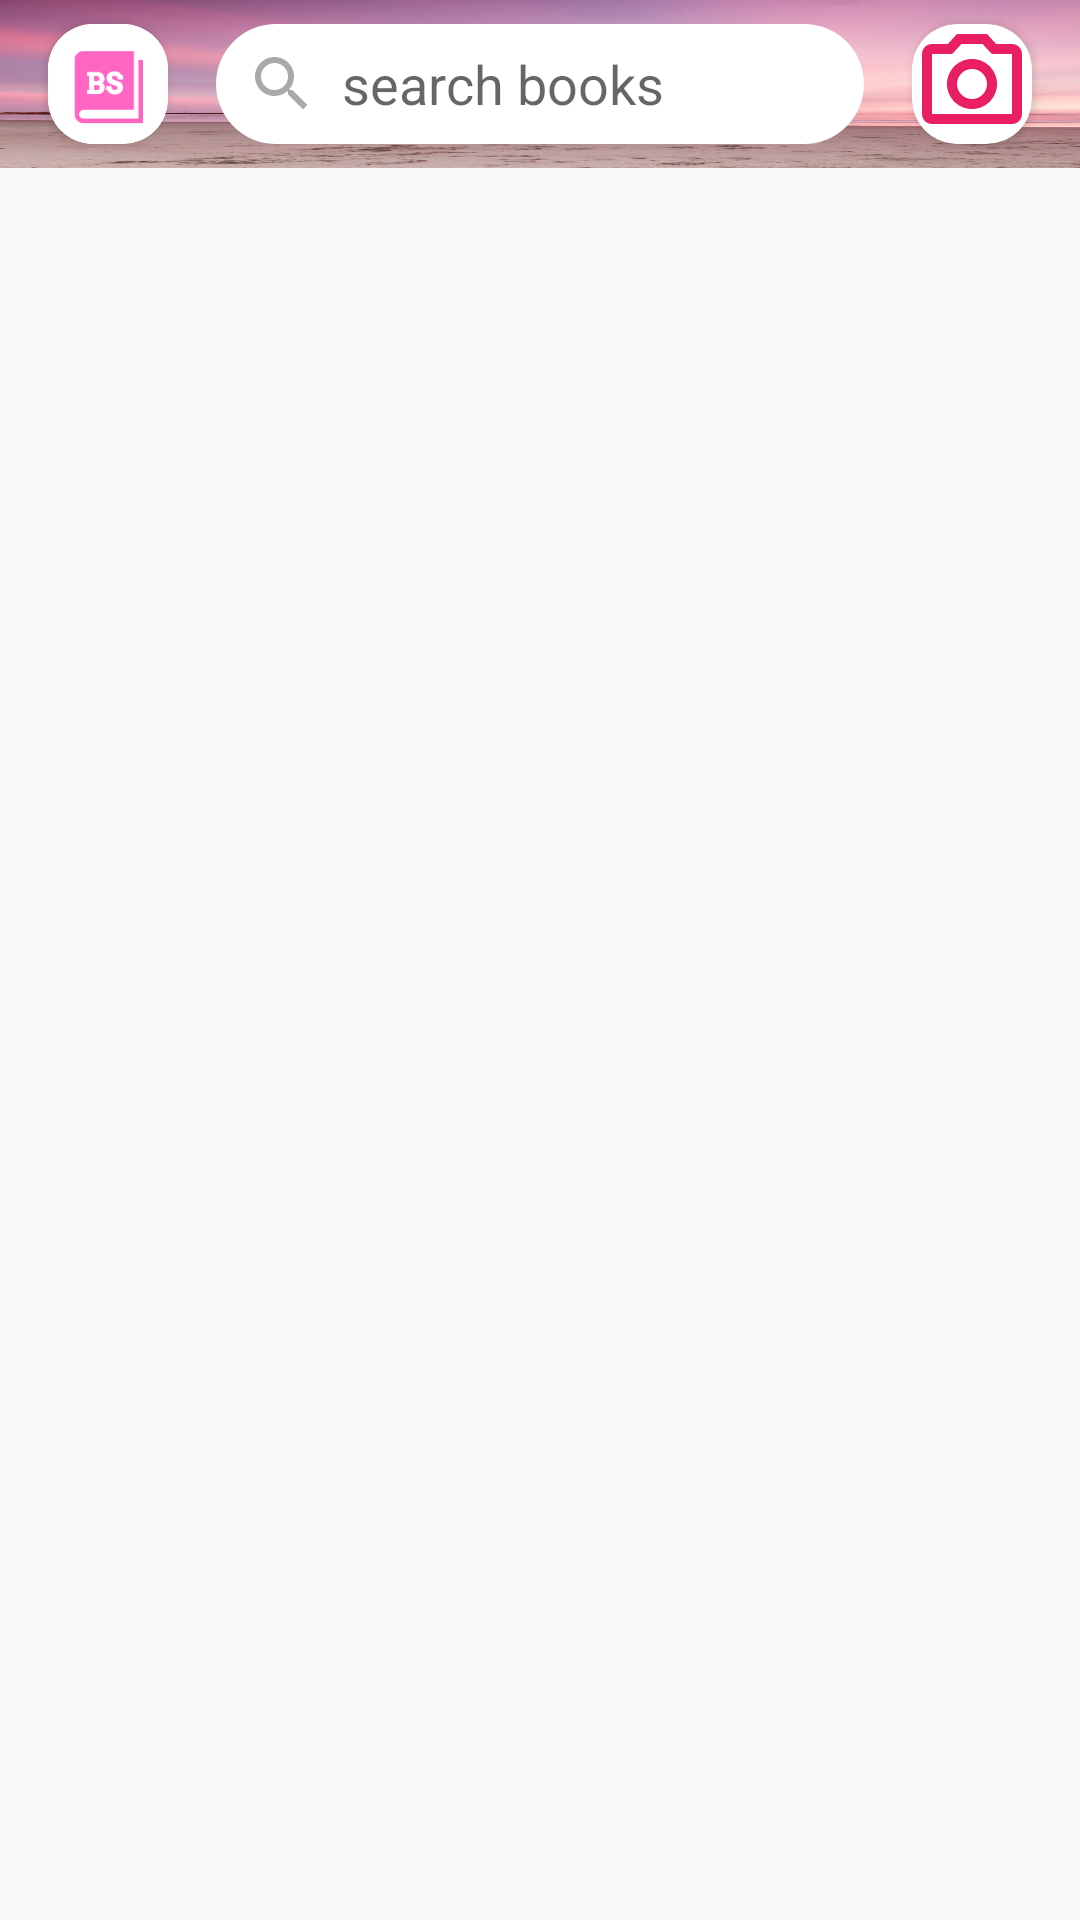

Screen size 1080*1920. Icon name, then its center in pixels as [x,y]:
camera: [972,84]
